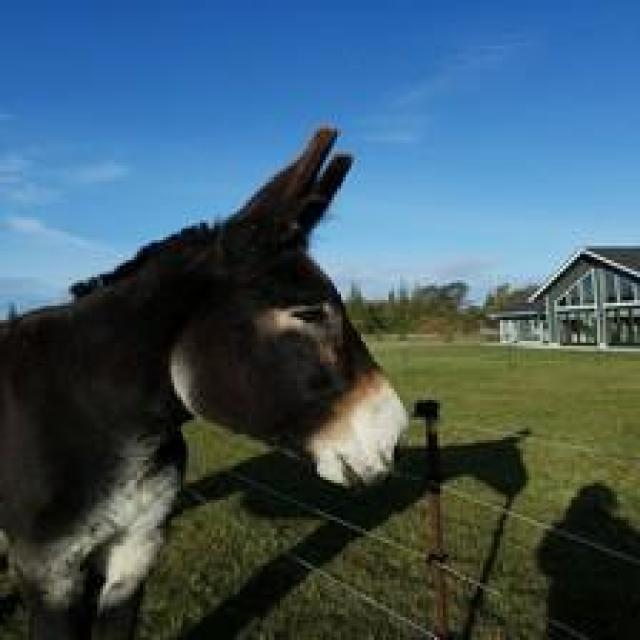Donkey: (0, 123, 409, 637)
